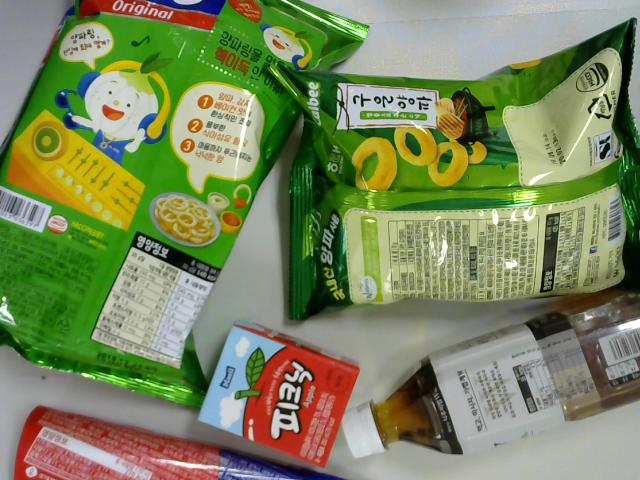Grilled_Onions: (264, 17, 640, 323)
Oninon_Ring: (1, 1, 373, 420)
Picnic_Apple: (197, 317, 360, 472)
Post-meal_recipe_W_tea_500ml: (339, 280, 640, 460)
World_Cone_Banila: (13, 406, 362, 480)
